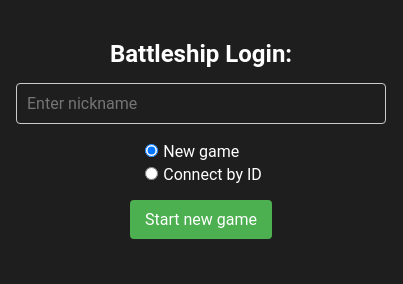
Test case: Login component › Should render input for game ID when "Connect by ID" radio button is selected
The width and height of the screenshot is (403, 284).
What coordinates should you click on to do the following:
click the radio button labelled "Connect by ID"
I would click on:
 (152, 173)
Its box is top-left (145, 166), bottom-right (158, 180).
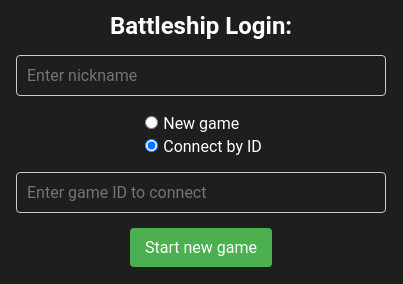
Expected: the field with placeholder "Enter game ID to connect" is shown, top-left (16, 172), bottom-right (386, 212)
